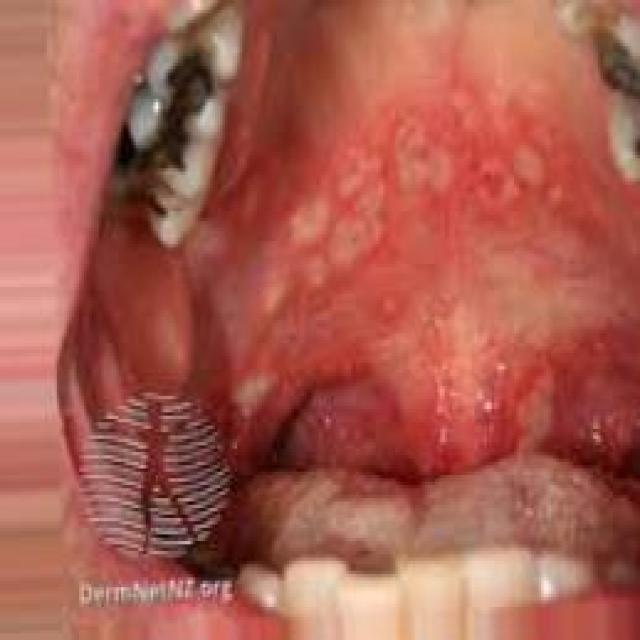caries: (148, 38, 230, 151), (102, 144, 184, 241), (584, 17, 640, 111)
